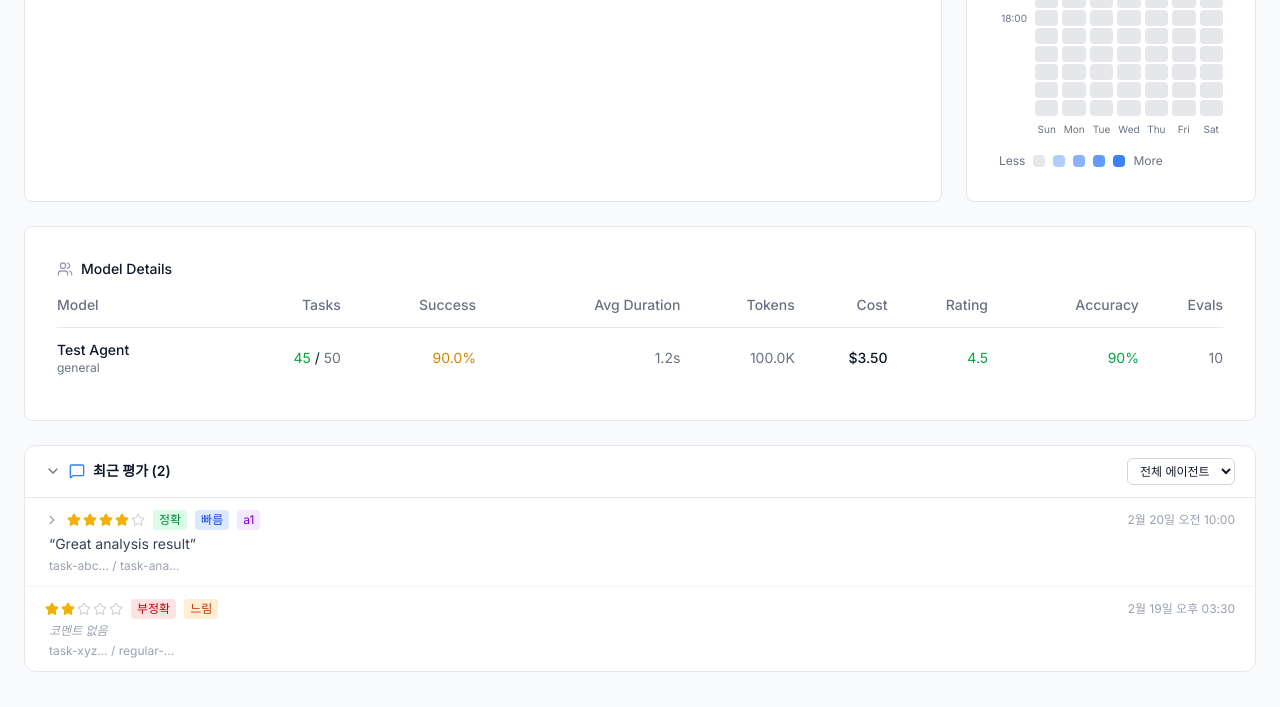
AnalyticsPage › shows "not found" when analysis detail is null
This screenshot has width=1280, height=707.
(page scrolled)
expect the text "“Great analysis result”" is shown: met, box [49,534,196,552]
Note: Click on the task-analyzer eval item
Click the text "Great analysis result".
click(170, 520)  # box [25,498,1255,586]
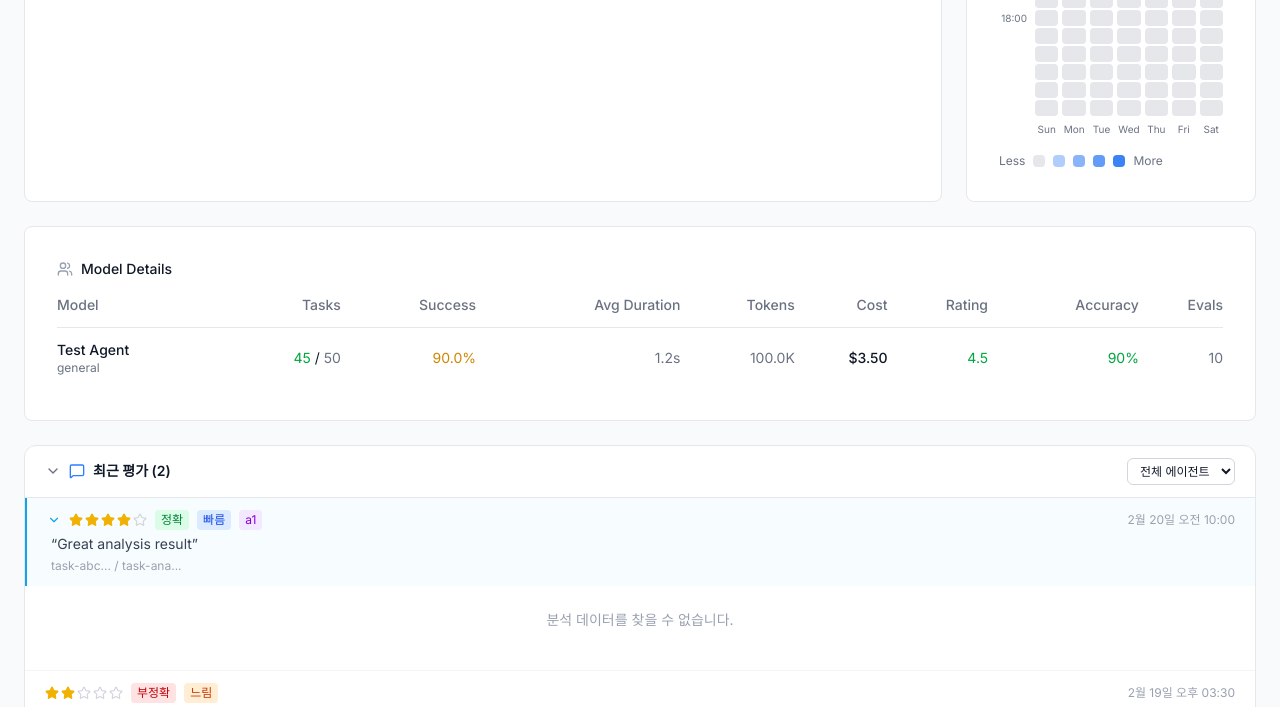
expect the text "분석 데이터를 찾을 수 없습니다." is shown: met, box [546,610,734,628]
